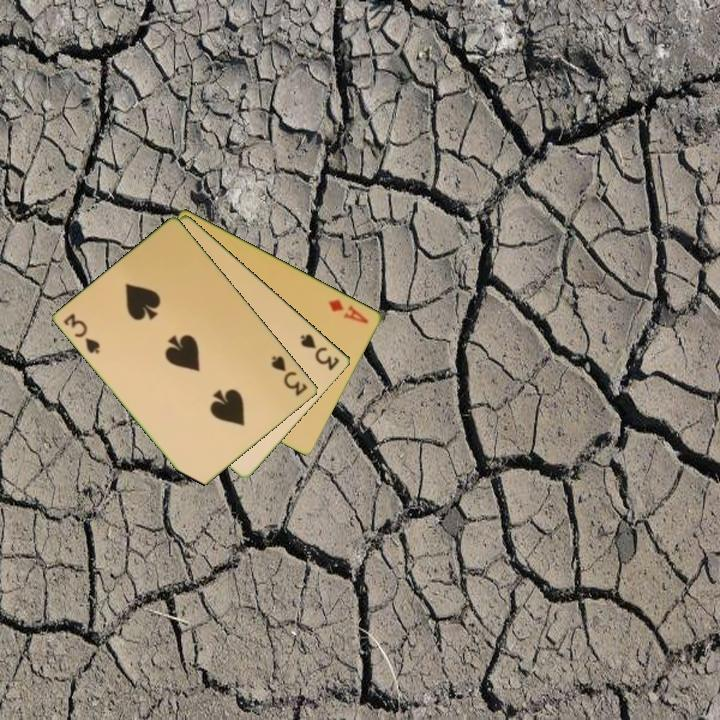3s: (60, 309, 103, 357), (296, 330, 343, 373), (268, 352, 311, 399)
Ad: (325, 295, 372, 326)
